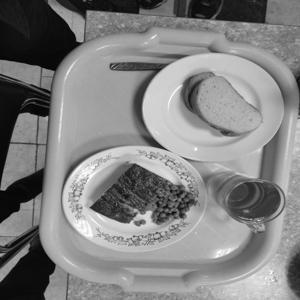bread: (184, 70, 263, 137)
casserole: (88, 161, 205, 236)
tea: (208, 163, 287, 232)
